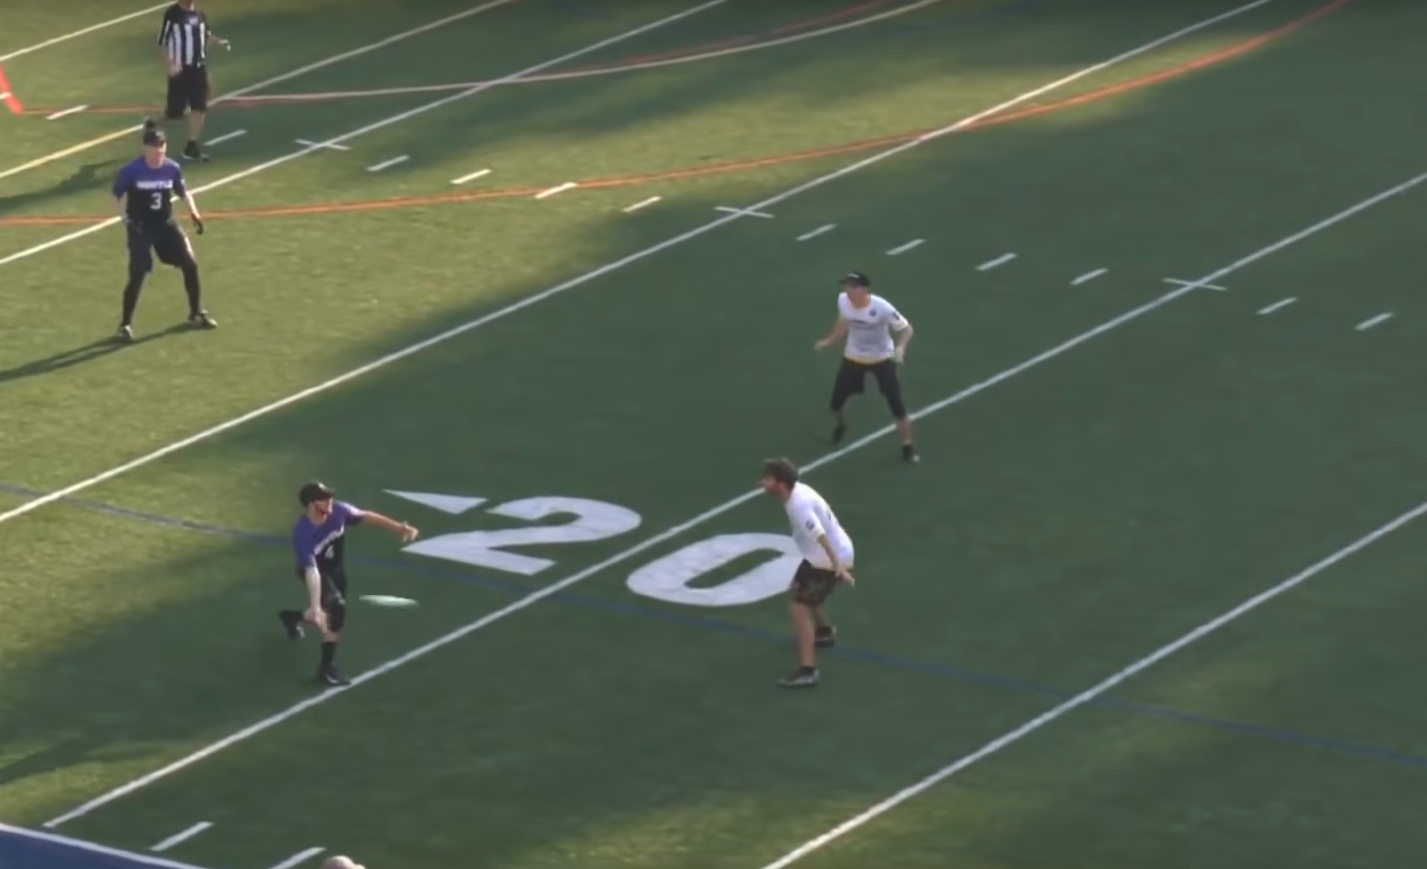frisbee: (358, 593, 419, 608)
